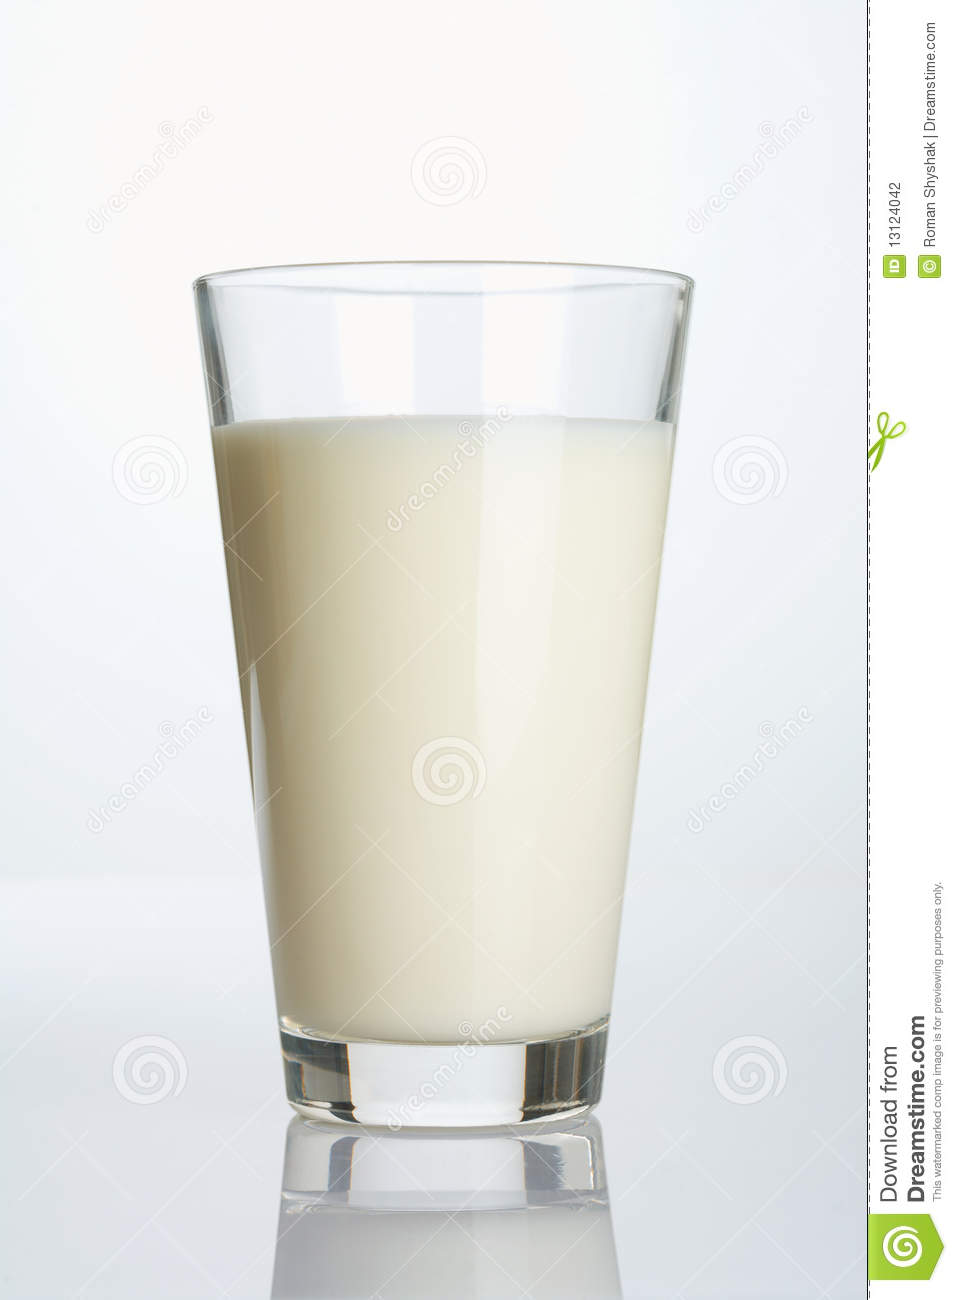glass of milk: (232, 283, 620, 1118)
